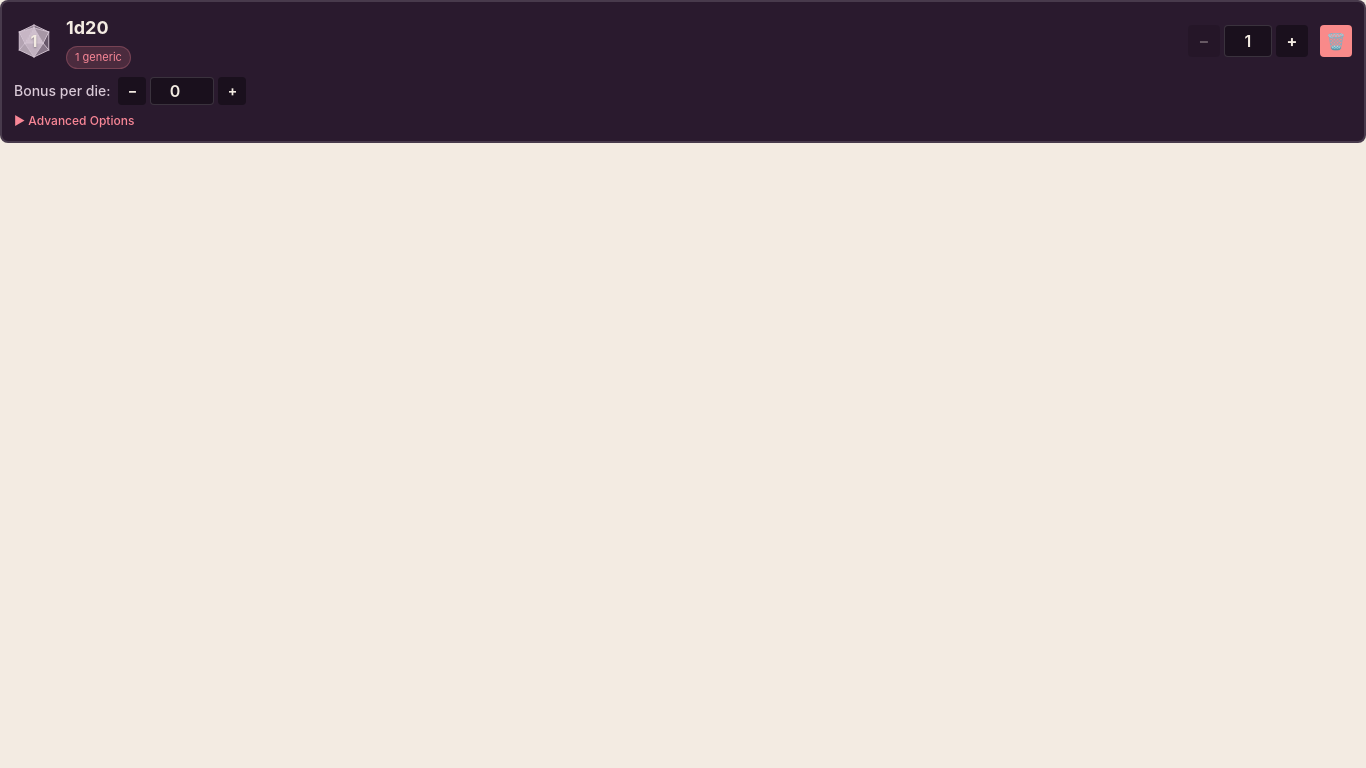
DiceEntryCard quick presets › turns a d20 into advantage: roll two, keep the best one
The width and height of the screenshot is (1366, 768).
Click the button "▶ Advanced Options" at (80, 120), box [14, 112, 1352, 128]
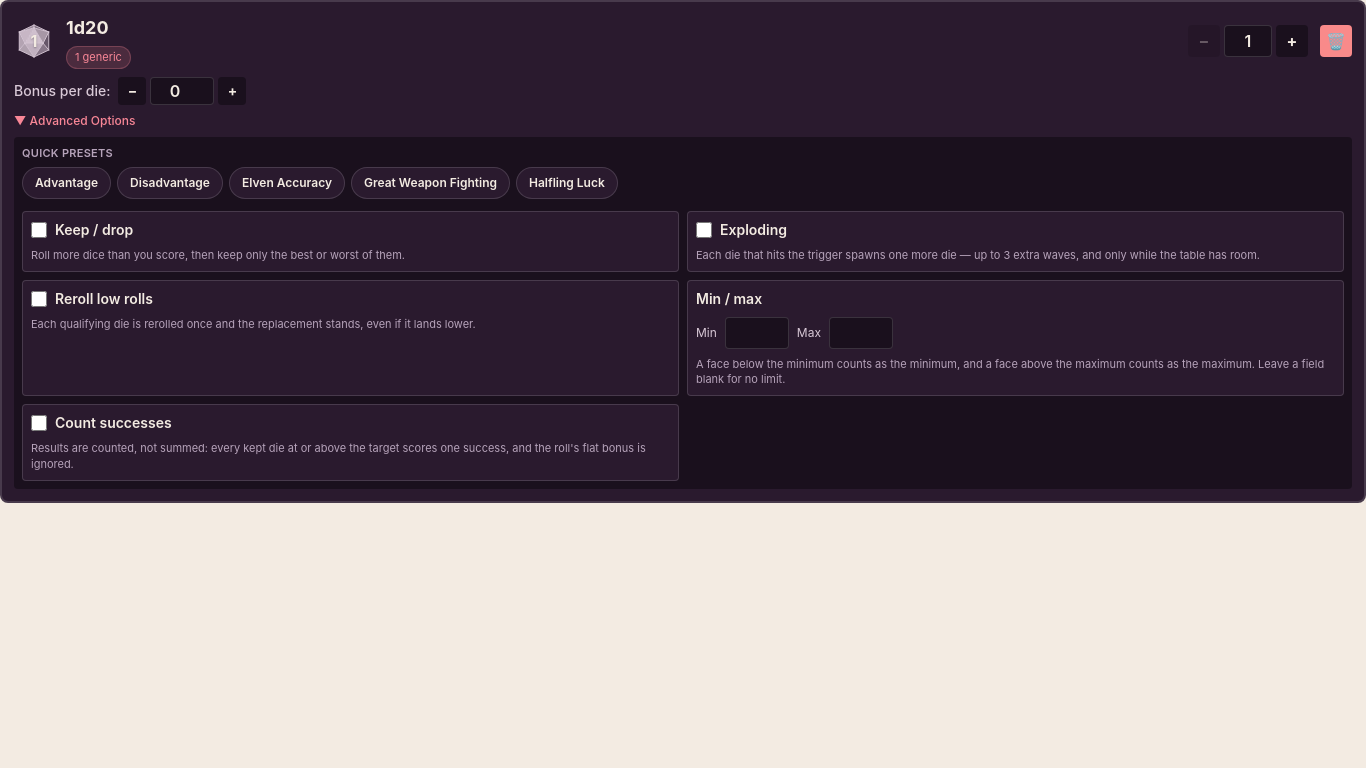
Click the button with aria-label "Apply Advantage to D20" at (67, 183), box [22, 167, 111, 199]
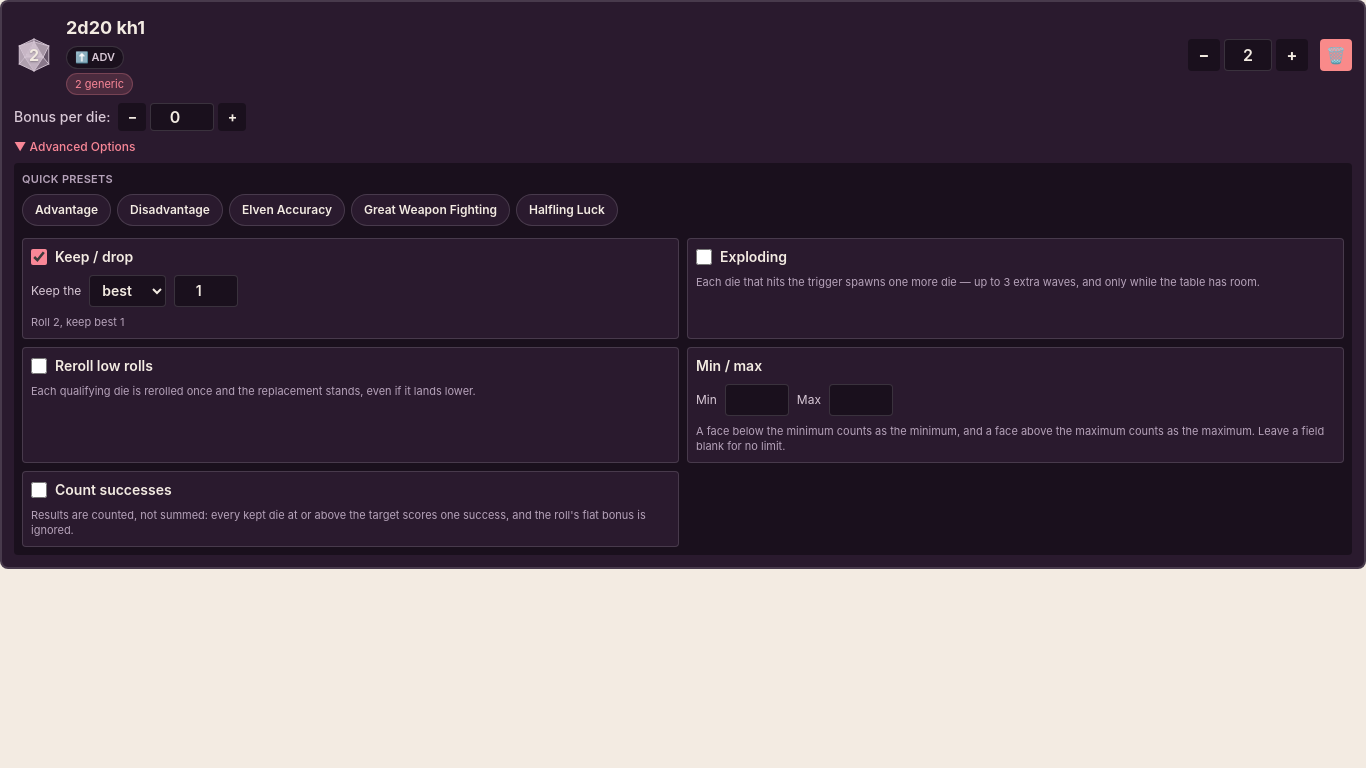
Expected: the text "2d20 kh1" is shown, [66, 17, 145, 38]
